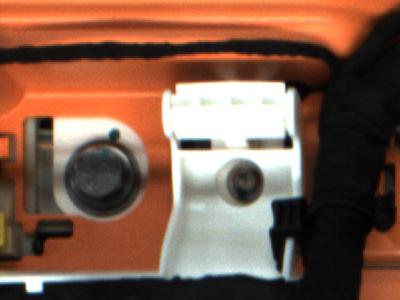nut_b: (57, 129, 145, 214)
